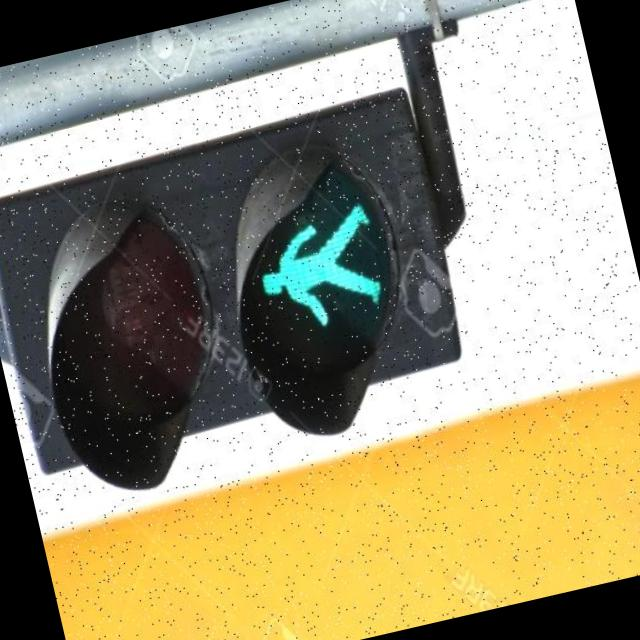green_light: (222, 177, 402, 375)
